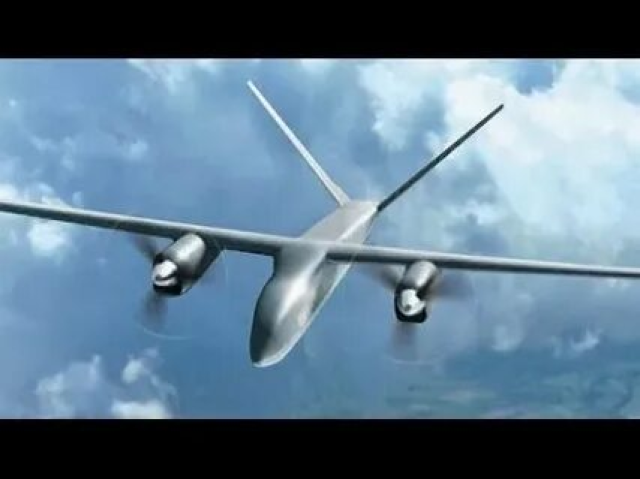military drone: (0, 80, 640, 368)
